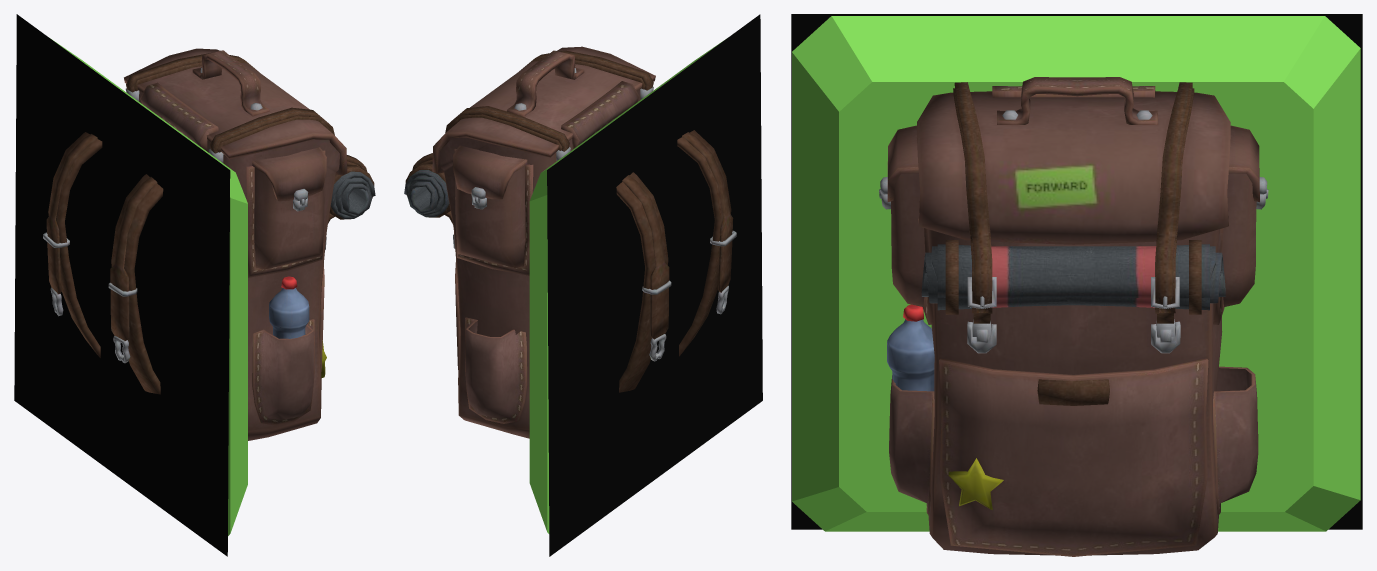
The model's file is bptabred (2).glb.
The picture shows the model from 3 angles, left to right: view 1: azimuth 30°, elevation 25°; view 2: azimuth 150°, elevation 25°; view 3: azimuth 270°, elevation 25°; orthographic projection. The views are drawn at different scales.
Parts seen in each view (by area): view 1: Plane.001, Plane, bag.003_low, bag_low, Cube.001, bag.036_low, bag.018_low, bag.041_low, bag.045_low, bag.019_low, bag.039_low, bag.024_low (+8 smaller); view 2: Plane.001, Plane, bag_low, bag.003_low, Cube.001, bag.037_low, bag.020_low, bag.045_low, bag.041_low, bag.021_low, bag.043_low, bag.024_low (+7 smaller); view 3: Cube.001, bag.001_low, bag.003_low, bag_low, bag.011_low, Plane, bag.037_low, bag.036_low, bag.029_low, bag.030_low, bag.018_low, bag.020_low (+13 smaller).
Part boxes in pixels (x1=…): Plane.001: x1=14, y1=14, x2=230, y2=539; Plane: x1=15, y1=14, x2=229, y2=556; bag.003_low: x1=124, y1=48, x2=347, y2=175; bag_low: x1=139, y1=91, x2=339, y2=440; Cube.001: x1=50, y1=38, x2=247, y2=535; bag.036_low: x1=252, y1=319, x2=314, y2=425; bag.018_low: x1=254, y1=168, x2=324, y2=269; bag.041_low: x1=111, y1=174, x2=163, y2=394; bag.045_low: x1=48, y1=132, x2=102, y2=357; bag.019_low: x1=252, y1=147, x2=326, y2=201; bag.039_low: x1=110, y1=177, x2=157, y2=340; bag.024_low: x1=140, y1=82, x2=218, y2=151; Plane.001: x1=547, y1=14, x2=762, y2=538; Plane: x1=547, y1=15, x2=762, y2=556; bag_low: x1=439, y1=89, x2=640, y2=438; bag.003_low: x1=432, y1=46, x2=655, y2=173; Cube.001: x1=529, y1=38, x2=726, y2=533; bag.037_low: x1=465, y1=317, x2=527, y2=423; bag.020_low: x1=455, y1=166, x2=525, y2=267; bag.045_low: x1=616, y1=172, x2=668, y2=392; bag.041_low: x1=677, y1=130, x2=731, y2=356; bag.021_low: x1=453, y1=145, x2=527, y2=199; bag.043_low: x1=622, y1=175, x2=669, y2=339; bag.024_low: x1=561, y1=81, x2=639, y2=149; Cube.001: x1=792, y1=16, x2=1360, y2=531; bag.001_low: x1=939, y1=358, x2=1208, y2=556; bag.003_low: x1=917, y1=91, x2=1230, y2=244; bag_low: x1=927, y1=229, x2=1222, y2=555; bag.011_low: x1=921, y1=244, x2=1225, y2=310; Plane: x1=791, y1=14, x2=1362, y2=529; bag.037_low: x1=1213, y1=366, x2=1258, y2=514; bag.036_low: x1=889, y1=375, x2=934, y2=514; bag.029_low: x1=954, y1=82, x2=990, y2=312; bag.030_low: x1=1156, y1=82, x2=1192, y2=312; bag.018_low: x1=891, y1=173, x2=925, y2=306; bag.020_low: x1=1222, y1=173, x2=1256, y2=306.
Bounding box in the file's own units: 1.66 × 2.42 × 2.41.
4 materials, 1 textured.
